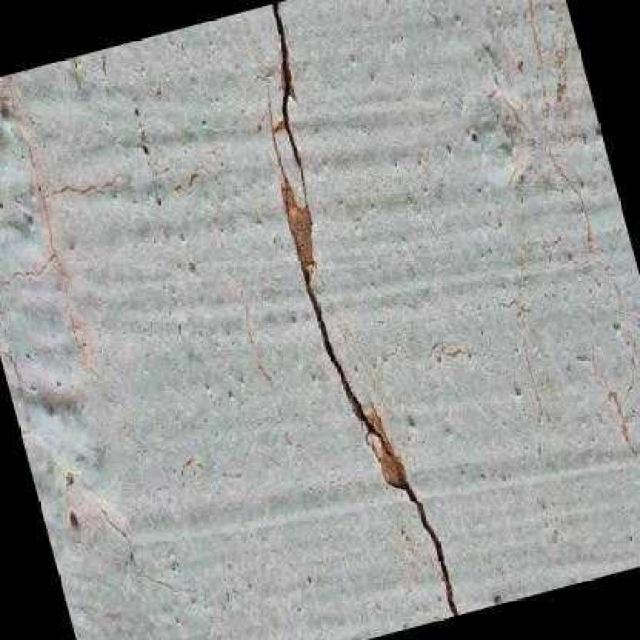D00: (269, 0, 462, 617)
